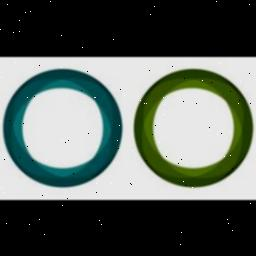o: (129, 62, 255, 192), (2, 64, 126, 184)
